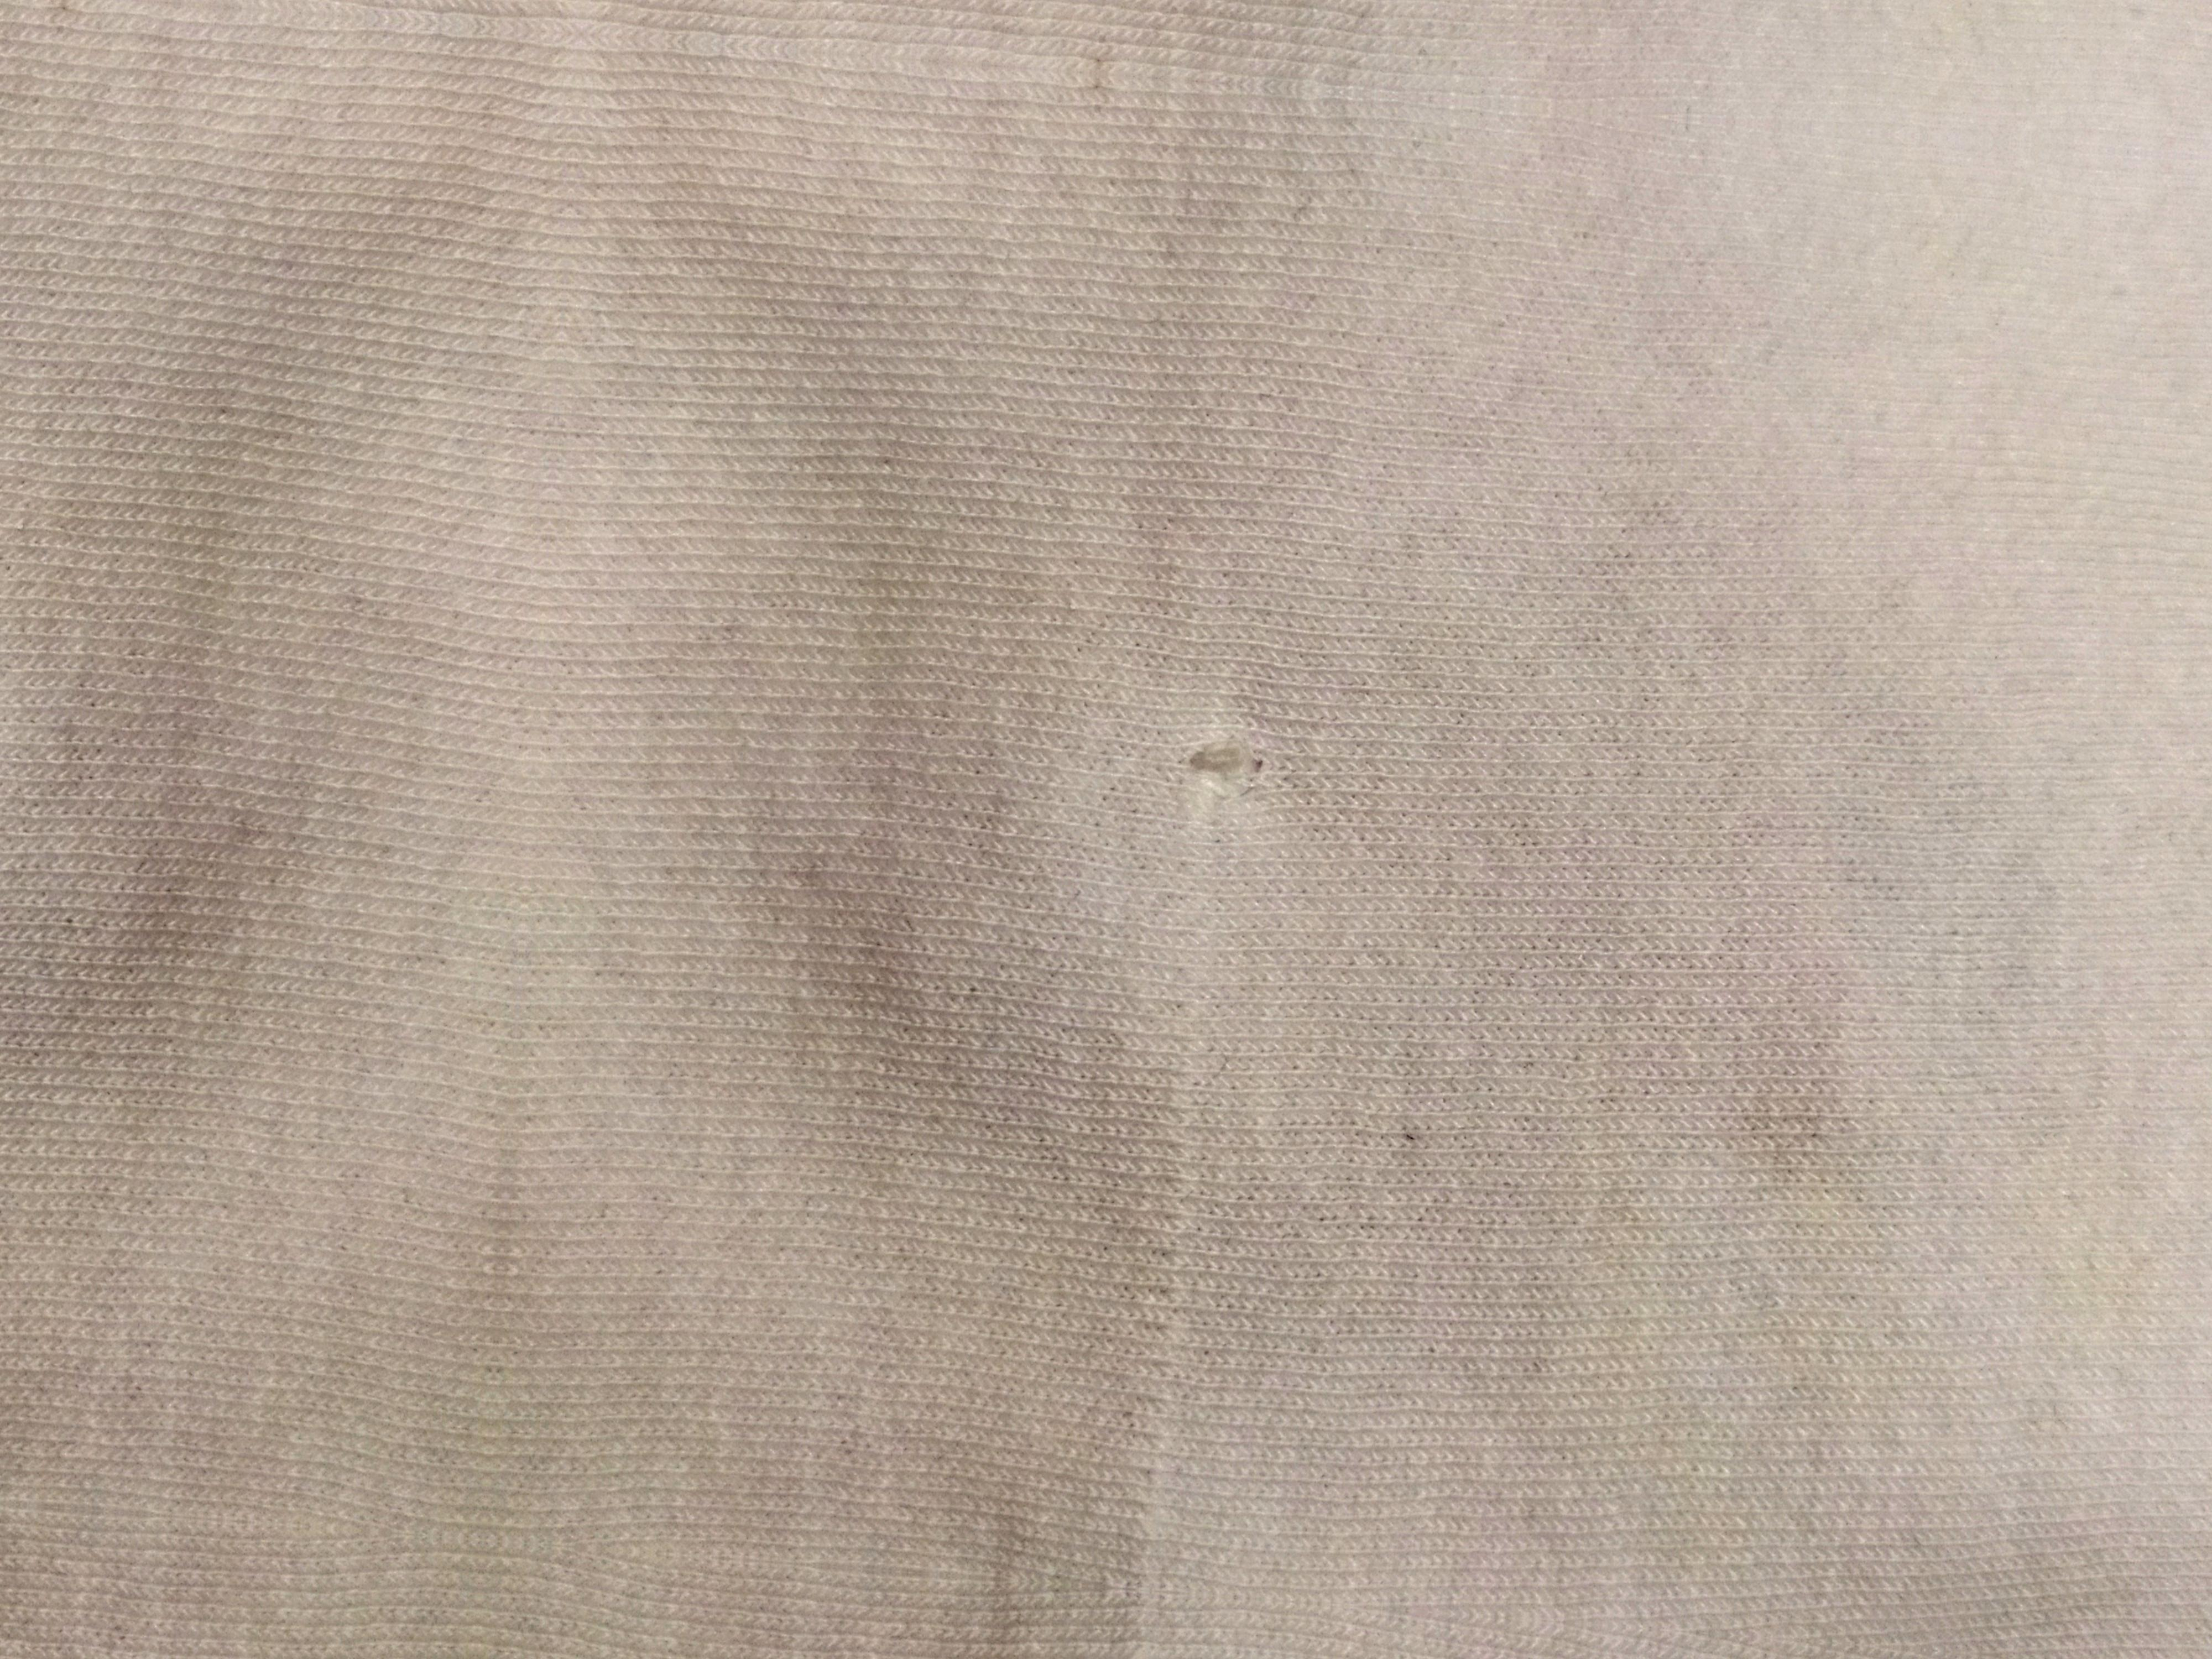knot: (1169, 708, 1324, 824)
